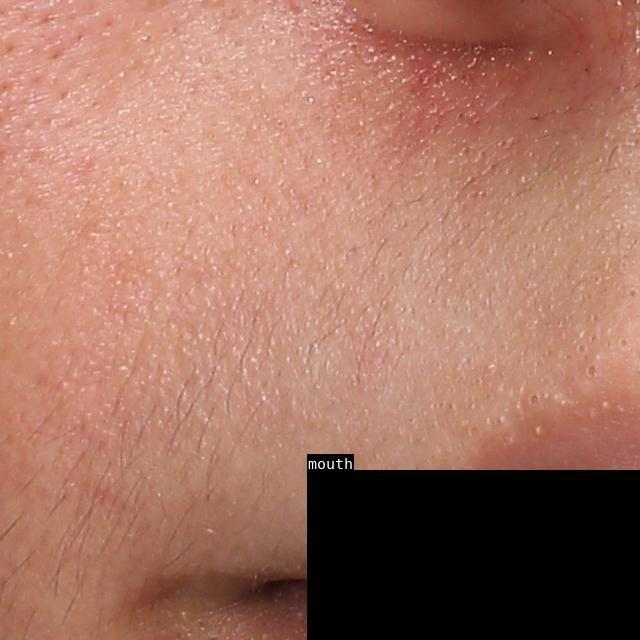comedo: (581, 362, 600, 381), (525, 391, 541, 408), (618, 335, 630, 350)
